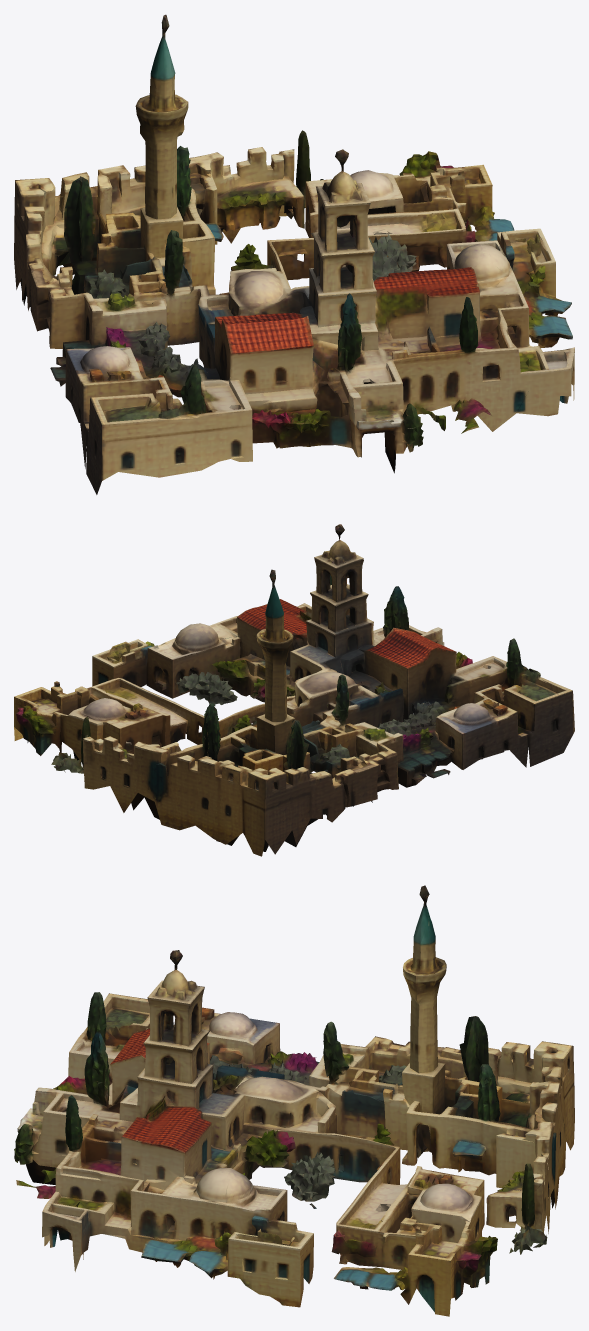
The model's file is city_jerusalem_stone_noplinth.glb.
3 views of the same model, one above another, from view 1: azimuth 30°, elevation 25°; view 2: azimuth 150°, elevation 25°; view 3: azimuth 270°, elevation 25° (orthographic). The views are drawn at different scales.
Parts seen in each view (by area): view 1: geometry_0; view 2: geometry_0; view 3: geometry_0.
Part boxes in pixels (x1,y1,x2,y2): geometry_0: (14,14,574,494); geometry_0: (14,524,574,856); geometry_0: (14,885,574,1316).
Size of the model in its own units: 0.9295 by 0.487 by 0.8561.
Materials: 1 (1 with a texture image).
